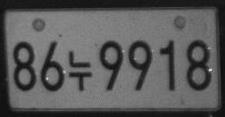1: (158, 39, 182, 89)
6: (39, 41, 65, 91)
8: (185, 39, 211, 90), (12, 40, 37, 91)
9: (128, 40, 153, 90)
구: (98, 39, 123, 90)
누: (68, 50, 92, 91)
